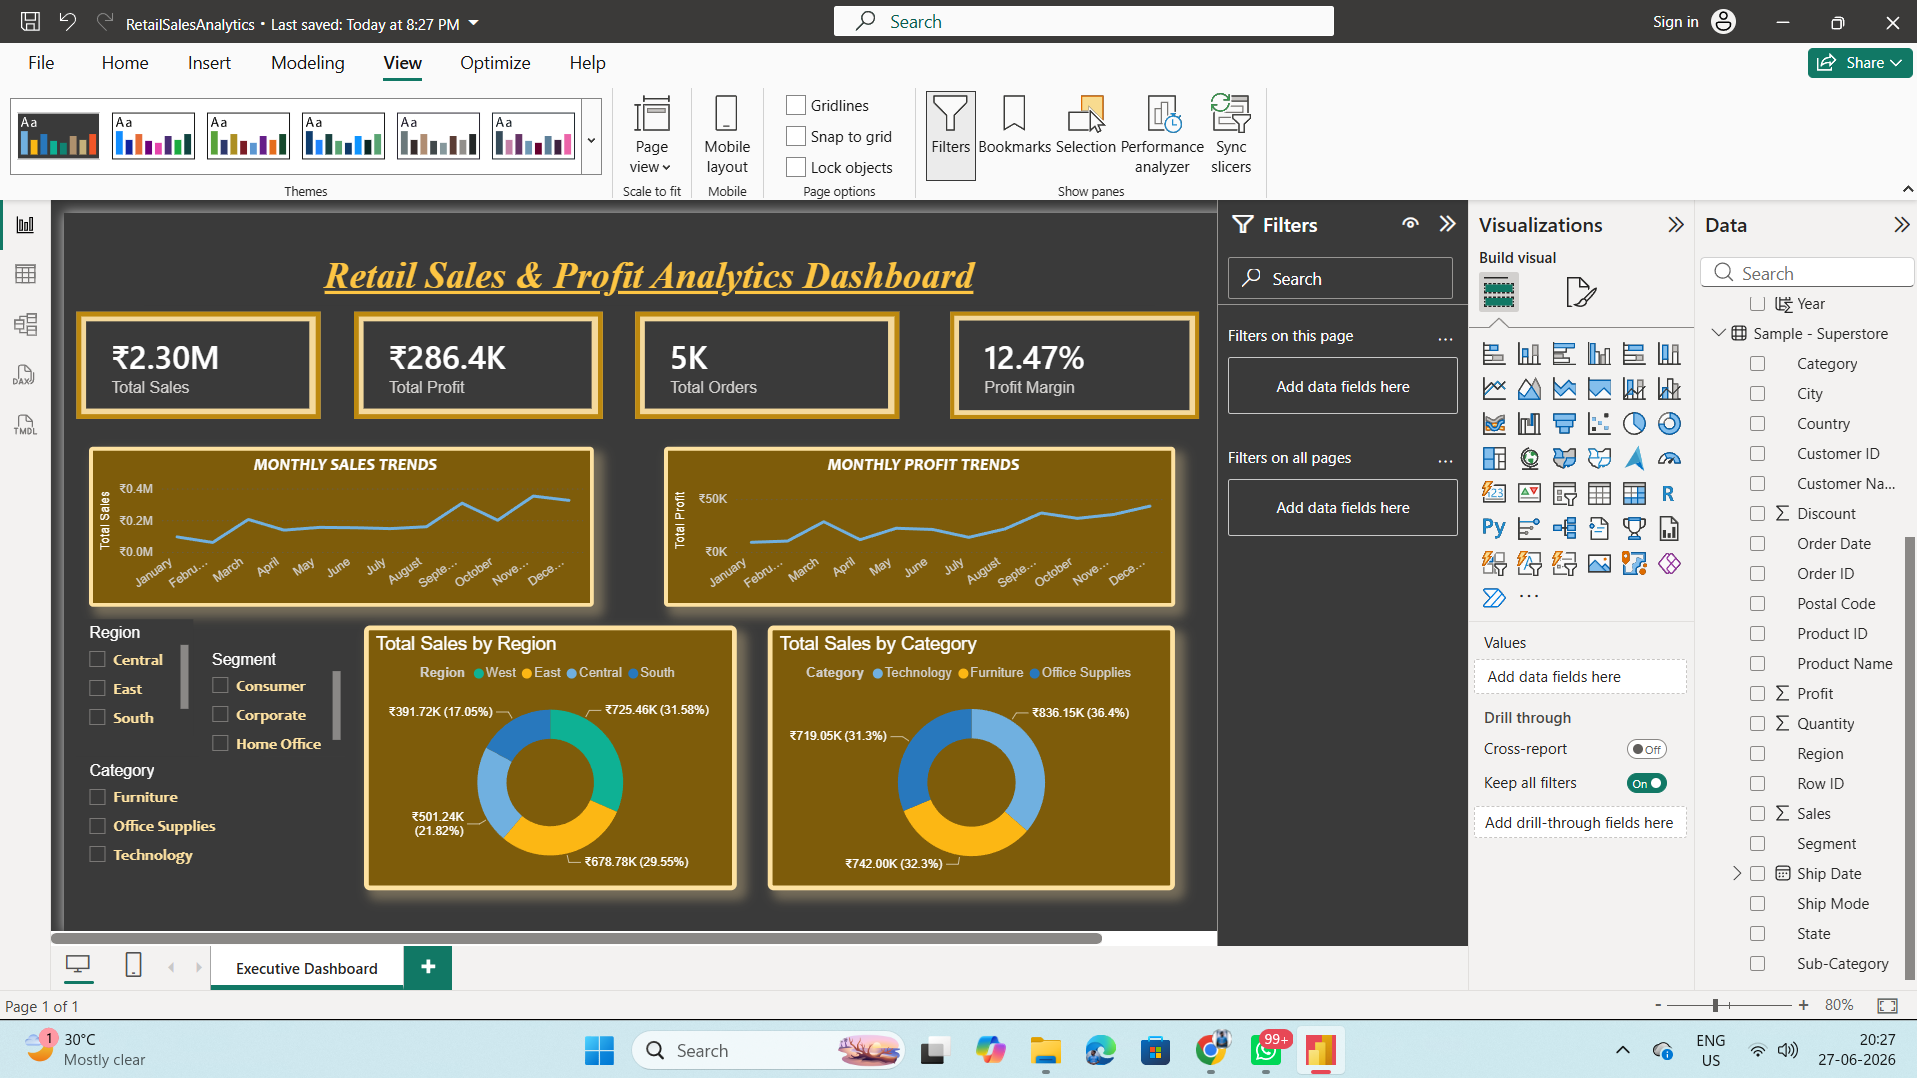

The page's visual inventory and layout, read from the dashboard file:
{"tool":"powerbi","page":{"name":"Executive Dashboard","canvas":[1280,720],"ordinal":0},"visuals":[{"type":"textbox","box":[80,36.2,1010,56.2],"z":0},{"type":"cardVisual","fields":{"Data":["DateTable.Total Sales"]},"box":[12.5,98.8,243.8,107.5],"z":1},{"type":"cardVisual","fields":{"Data":["DateTable.Total Profit"]},"box":[290,98.8,248.8,107.5],"z":2},{"type":"cardVisual","fields":{"Data":["DateTable.Total Orders"]},"box":[571.2,98.8,263.8,107.5],"z":3},{"type":"cardVisual","fields":{"Data":["DateTable.Profit Margin"]},"box":[886.2,98.8,248.8,107.5],"z":4},{"type":"lineChart","title":"MONTHLY SALES TRENDS","fields":{"Category":["DateTable.Month"],"Y":["DateTable.Total Sales"]},"box":[25,233.8,505,160],"z":5},{"type":"lineChart","title":"MONTHLY PROFIT TRENDS","fields":{"Category":["DateTable.Month"],"Y":["DateTable.Total Profit"]},"box":[600,233.8,511.2,160],"z":6},{"type":"donutChart","fields":{"Category":["Sample - Superstore.Region"],"Y":["DateTable.Total Sales"]},"box":[300,412.5,372.5,265],"z":7},{"type":"slicer","fields":{"Values":["Sample - Superstore.Region"]},"box":[12.2,406.7,116.7,116.7],"z":8},{"type":"slicer","fields":{"Values":["Sample - Superstore.Category"]},"box":[12.2,543.3,186.7,145.6],"z":9},{"type":"slicer","fields":{"Values":["Sample - Superstore.Segment"]},"box":[134.4,432.2,146.7,111.1],"z":10},{"type":"donutChart","fields":{"Y":["DateTable.Total Sales"],"Category":["Sample - Superstore.Category"]},"box":[703.8,412.5,407.5,265],"z":11}]}

Visuals, with their boxes on the page's 1280x720 design canvas (x1, y1, x2, y2). These are canvas units, not pixel positions in the 1917x1078 screenshot, which may show the page scaled, cropped or inside an application window:
textbox: {"left": 80, "top": 36, "right": 1090, "bottom": 92}
cardVisual - DateTable.Total Sales: {"left": 12, "top": 99, "right": 256, "bottom": 206}
cardVisual - DateTable.Total Profit: {"left": 290, "top": 99, "right": 539, "bottom": 206}
cardVisual - DateTable.Total Orders: {"left": 571, "top": 99, "right": 835, "bottom": 206}
cardVisual - DateTable.Profit Margin: {"left": 886, "top": 99, "right": 1135, "bottom": 206}
"MONTHLY SALES TRENDS" lineChart: {"left": 25, "top": 234, "right": 530, "bottom": 394}
"MONTHLY PROFIT TRENDS" lineChart: {"left": 600, "top": 234, "right": 1111, "bottom": 394}
donutChart - Sample - Superstore.Region x DateTable.Total Sales: {"left": 300, "top": 412, "right": 672, "bottom": 678}
slicer - Sample - Superstore.Region: {"left": 12, "top": 407, "right": 129, "bottom": 523}
slicer - Sample - Superstore.Category: {"left": 12, "top": 543, "right": 199, "bottom": 689}
slicer - Sample - Superstore.Segment: {"left": 134, "top": 432, "right": 281, "bottom": 543}
donutChart - DateTable.Total Sales x Sample - Superstore.Category: {"left": 704, "top": 412, "right": 1111, "bottom": 678}
